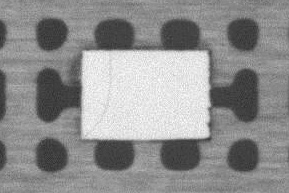DIE_CRACK: (83, 51, 112, 138)
